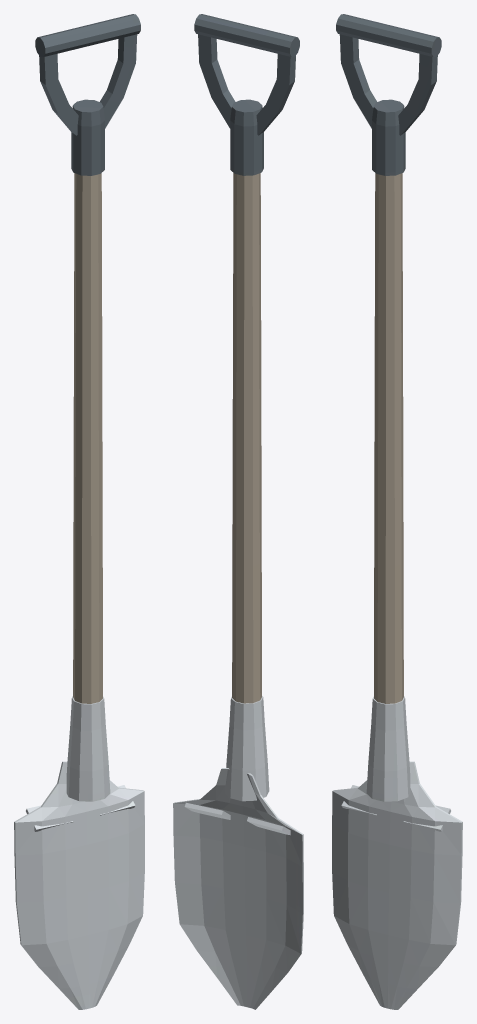
Rendered from shovel.glb.
3 views of the same model, side by side, from view 1: azimuth 30°, elevation 25°; view 2: azimuth 150°, elevation 25°; view 3: azimuth 330°, elevation 25° (orthographic).
Visible parts, largest first — view 1: ShovelFrost; view 2: ShovelFrost; view 3: ShovelFrost.
Boxes of the visible parts, x1,y1,x2,y2 form: ShovelFrost: (14, 14, 144, 1009); ShovelFrost: (173, 14, 303, 1009); ShovelFrost: (332, 14, 462, 1009).
Size of the model in its own units: 0.2 by 1.45 by 0.0655.
1 material, 1 textured.
